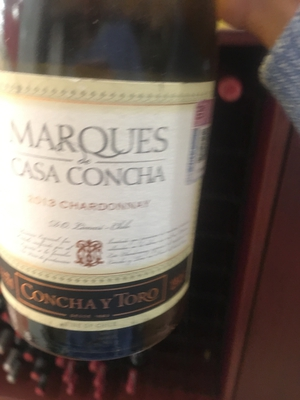marques de casa concha chardonnay: (3, 20, 214, 359)
